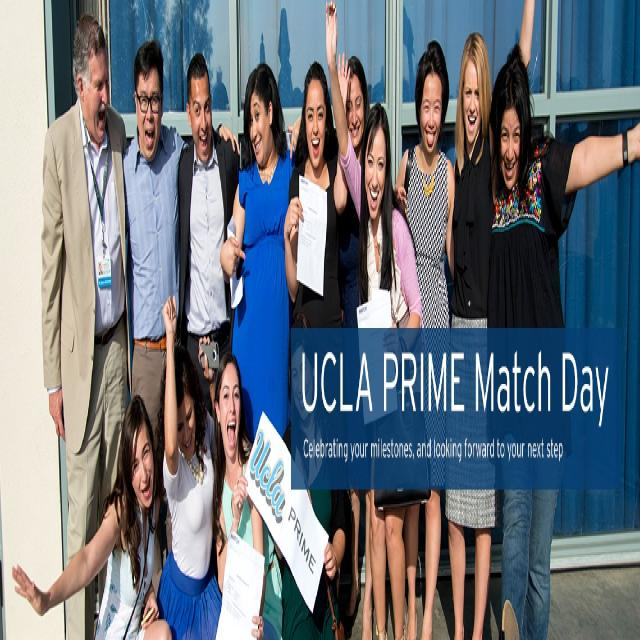body: (484, 40, 640, 640), (324, 0, 424, 640), (38, 9, 132, 640), (444, 0, 536, 640), (118, 35, 241, 480), (328, 52, 407, 634), (9, 388, 174, 638), (393, 37, 456, 640), (218, 58, 306, 476), (272, 307, 348, 640), (176, 52, 242, 430), (153, 288, 222, 640), (283, 46, 352, 365), (212, 349, 285, 640), (268, 0, 428, 106), (139, 30, 232, 116)
